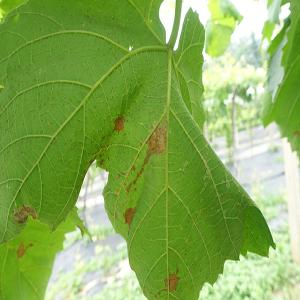Folha: (0, 0, 276, 298), (0, 199, 94, 300)
Fungo: (124, 118, 167, 194), (99, 113, 125, 148), (147, 119, 167, 155), (157, 272, 181, 296), (12, 202, 36, 224), (122, 206, 136, 229), (16, 241, 33, 259), (113, 113, 125, 133), (168, 272, 180, 292)
